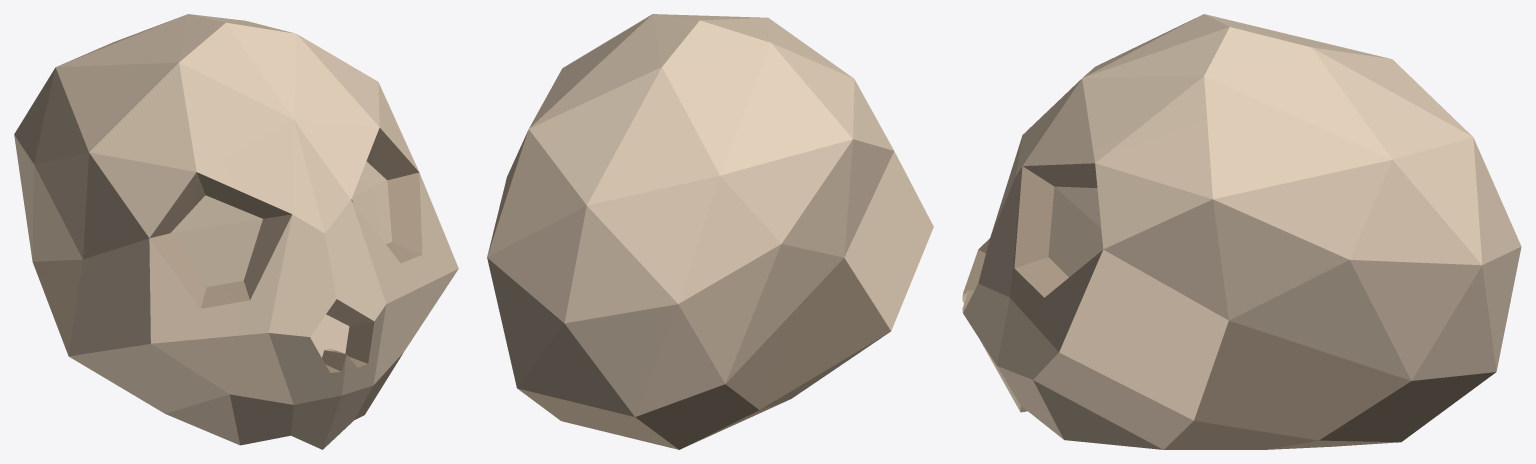
The model's file is BonesSkull_01.glb.
The picture shows the model from 3 angles, left to right: view 1: azimuth 30°, elevation 25°; view 2: azimuth 150°, elevation 25°; view 3: azimuth 270°, elevation 25°; orthographic projection. The views are drawn at different scales.
Parts seen in each view (by area): view 1: BonesSkull_01; view 2: BonesSkull_01; view 3: BonesSkull_01.
Boxes of the visible parts, bbox=[...] form: BonesSkull_01: bbox=[14, 14, 458, 449]; BonesSkull_01: bbox=[487, 14, 933, 449]; BonesSkull_01: bbox=[962, 14, 1521, 449].
Size of what is drawn, in the model's own units: 0.4556 by 0.4499 by 0.5863.
1 material, 1 textured.
